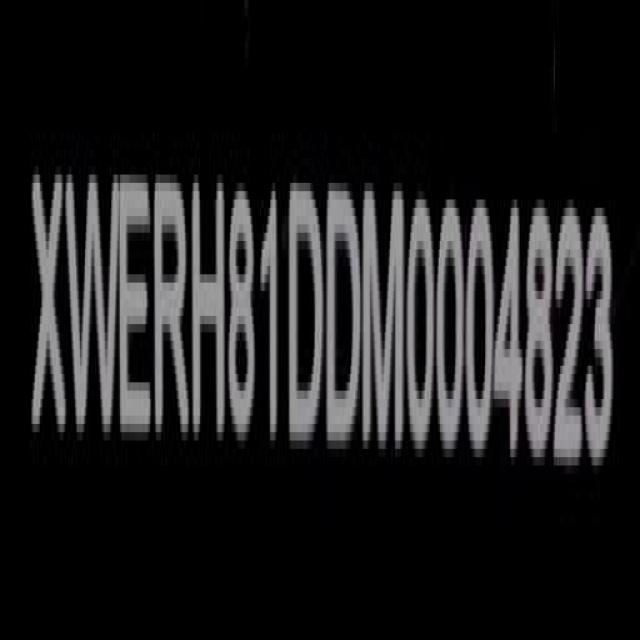0: (409, 190, 438, 460), (437, 196, 466, 459), (466, 193, 494, 464)
1: (260, 176, 284, 452)
2: (555, 208, 586, 468)
3: (587, 203, 617, 469)
4: (495, 194, 525, 466)
8: (227, 180, 256, 448), (525, 198, 553, 467)
D: (327, 182, 363, 460), (288, 172, 322, 448)
E: (120, 174, 158, 448)
H: (193, 177, 227, 450)
M: (363, 186, 405, 464)
R: (154, 166, 190, 465)
W: (69, 165, 119, 448)
X: (32, 164, 68, 450)
